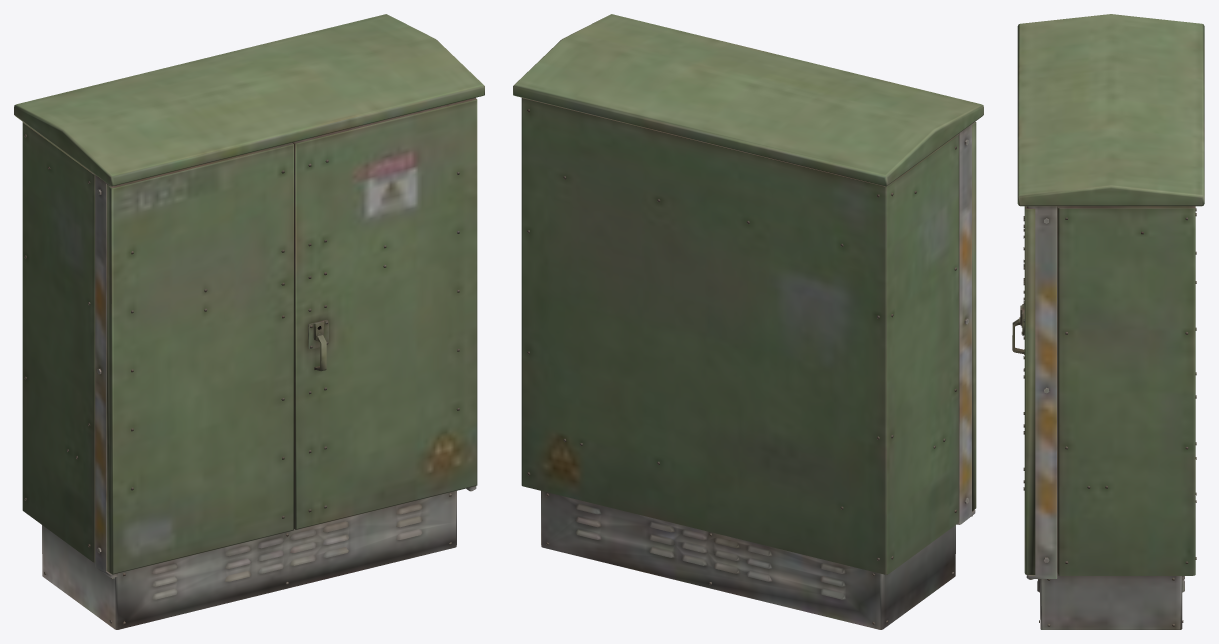
Rendered from utility_box_02.glb.
3 views of the same model, side by side, from view 1: azimuth 30°, elevation 25°; view 2: azimuth 150°, elevation 25°; view 3: azimuth 270°, elevation 25° (orthographic). The views are drawn at different scales.
Parts seen in each view (by area): view 1: utility_box_02; view 2: utility_box_02; view 3: utility_box_02.
Part boxes in pixels (x1,y1,x2,y2): utility_box_02: [14, 14, 484, 629]; utility_box_02: [513, 14, 983, 629]; utility_box_02: [1012, 14, 1204, 629].
Size of the model in its own units: 0.92 by 1.12 by 0.432.
Materials: 1 (1 with a texture image).
